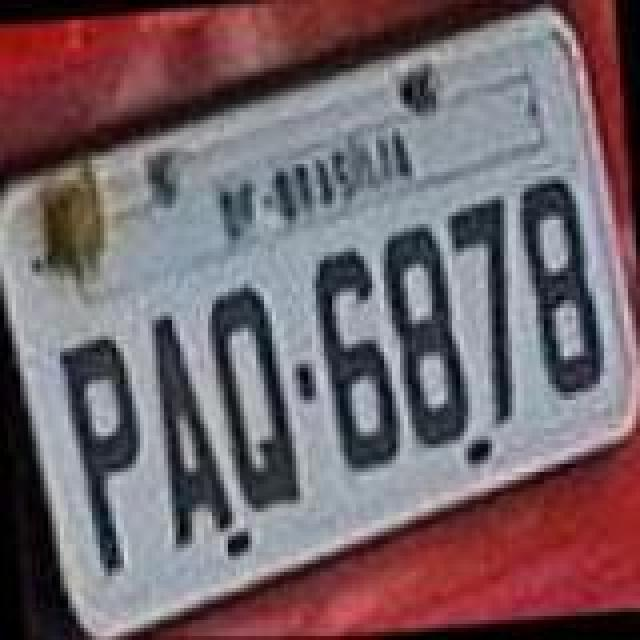6: (308, 244, 404, 472)
7: (446, 194, 530, 430)
8: (376, 220, 472, 452), (516, 174, 612, 402)
A: (150, 308, 238, 556)
P: (56, 338, 156, 582)
Q: (208, 284, 308, 516)
